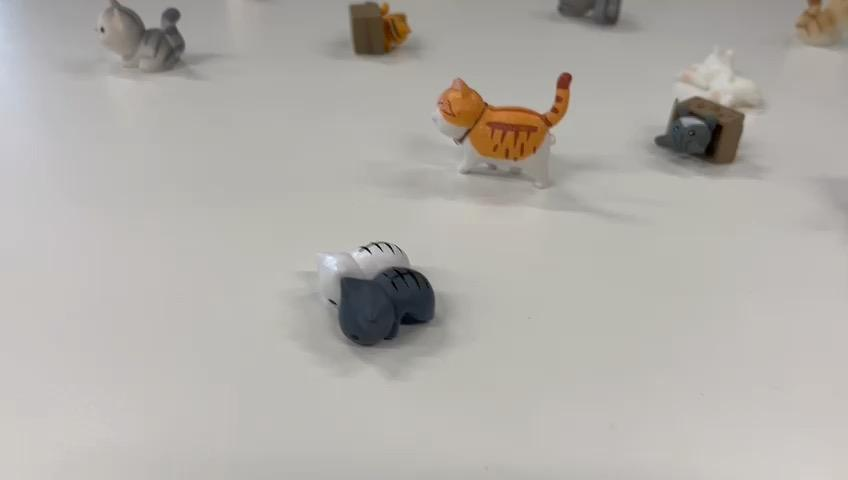pet: (413, 66, 598, 200), (303, 232, 469, 353), (656, 86, 755, 196), (83, 0, 205, 85), (318, 3, 452, 67), (781, 0, 848, 73)
